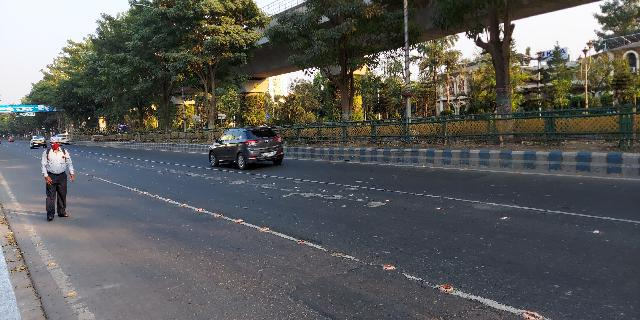Car: (204, 121, 288, 172)
